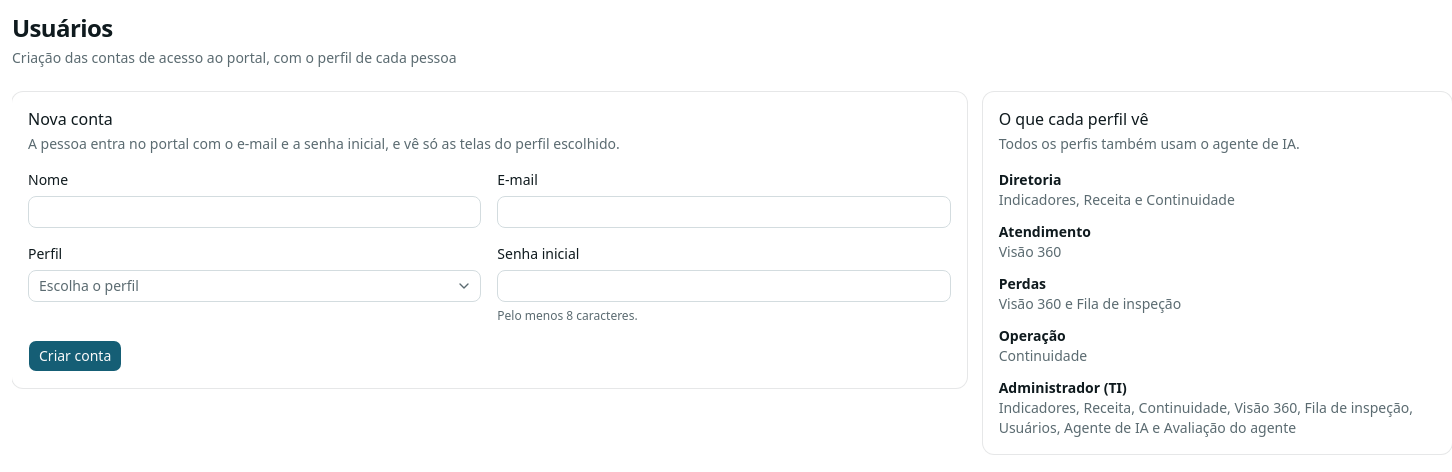
it: campos vazios ou inválidos mostram o erro em cada campo e nem chegam ao backend
Step 1. Click the button "Criar conta" → (75, 356), box [28,340,122,372]
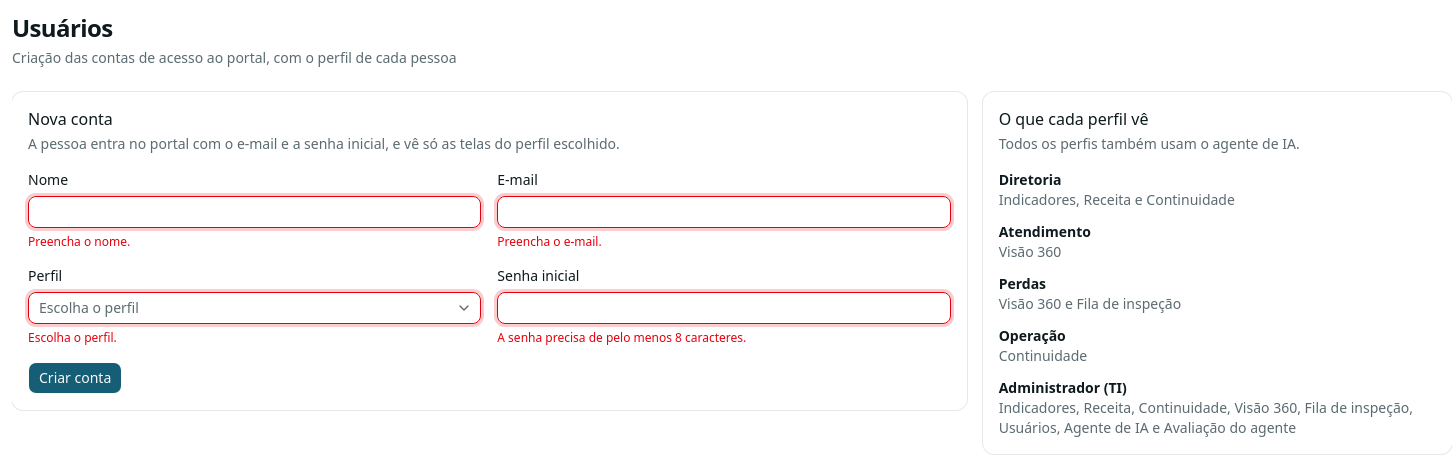
Check: the text "Preencha o nome." is shown, box [28,233,130,250]
Check: the text "Preencha o e-mail." is shown, box [497,233,602,250]
Check: the text "Escolha o perfil." is shown, box [28,329,117,346]
Step 2. Type "rafael" into the field labelled "E-mail" → (724, 212), box [497,196,951,228]
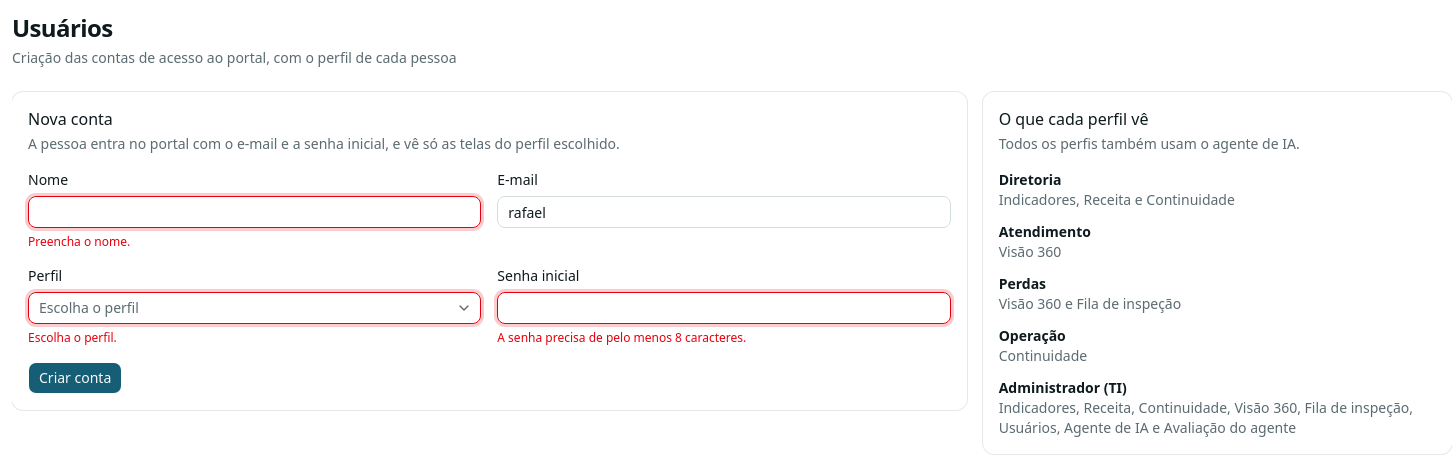
Step 3. Type "curta" into the password field labelled "Senha inicial" → (724, 308), box [497,292,951,324]
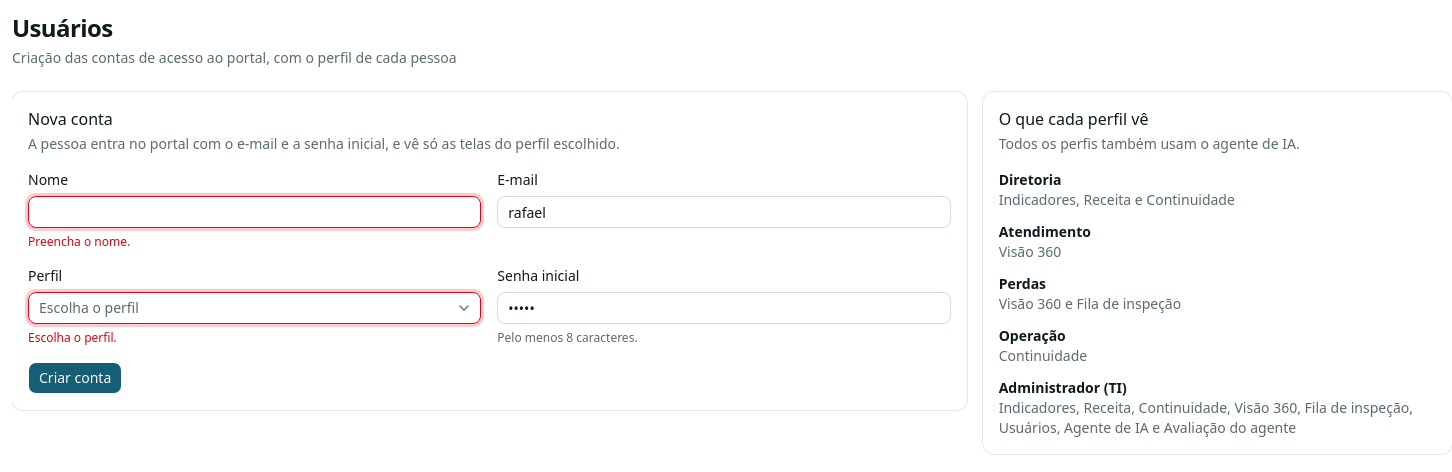
Step 4. Click the button "Criar conta" → (75, 378), box [28,362,122,394]
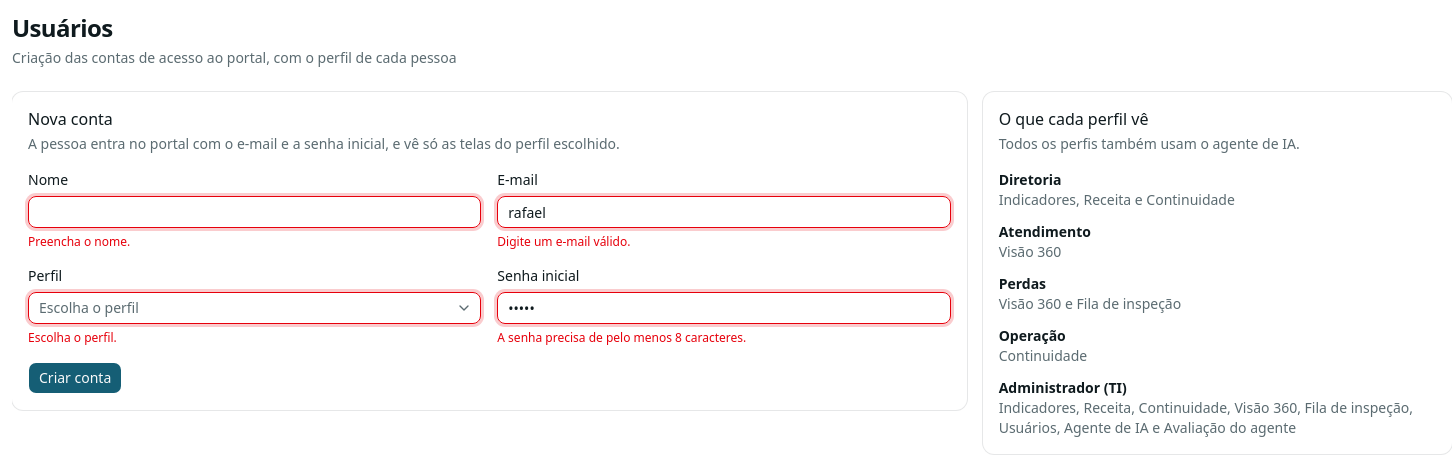
Check: the text "Digite um e-mail válido." is shown, box [497,233,630,250]
